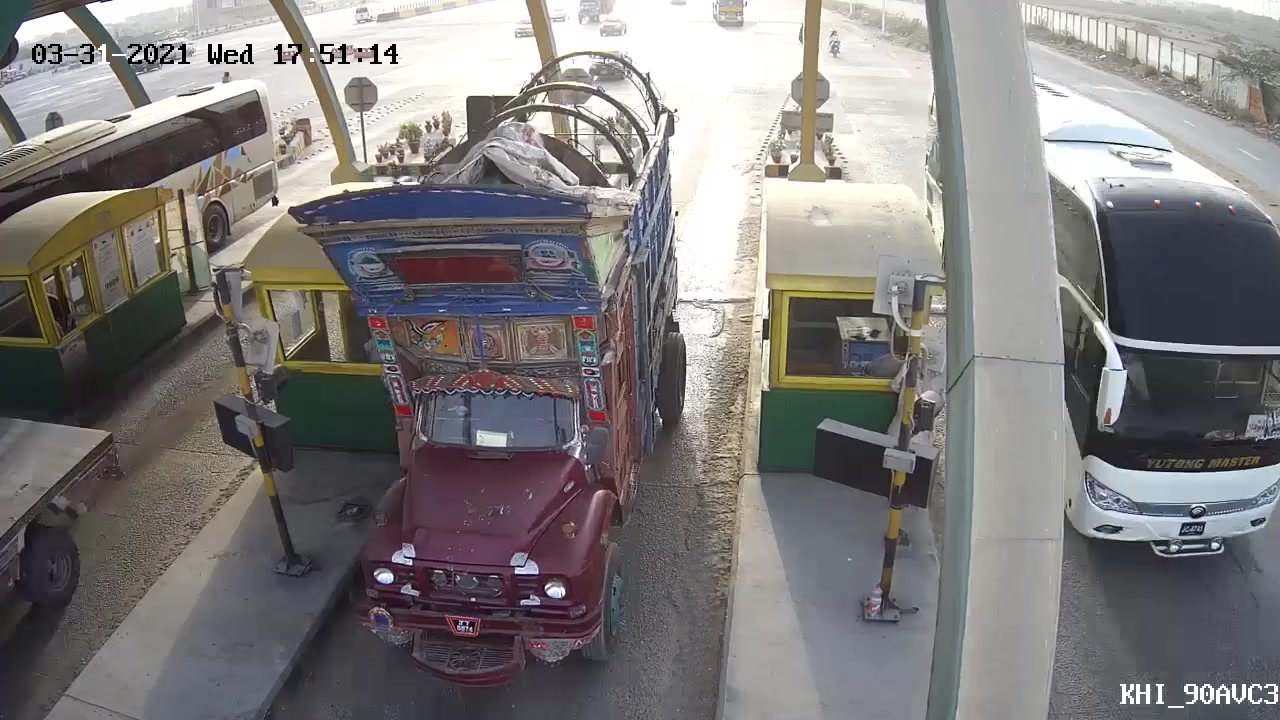F5: (282, 173, 685, 674)
